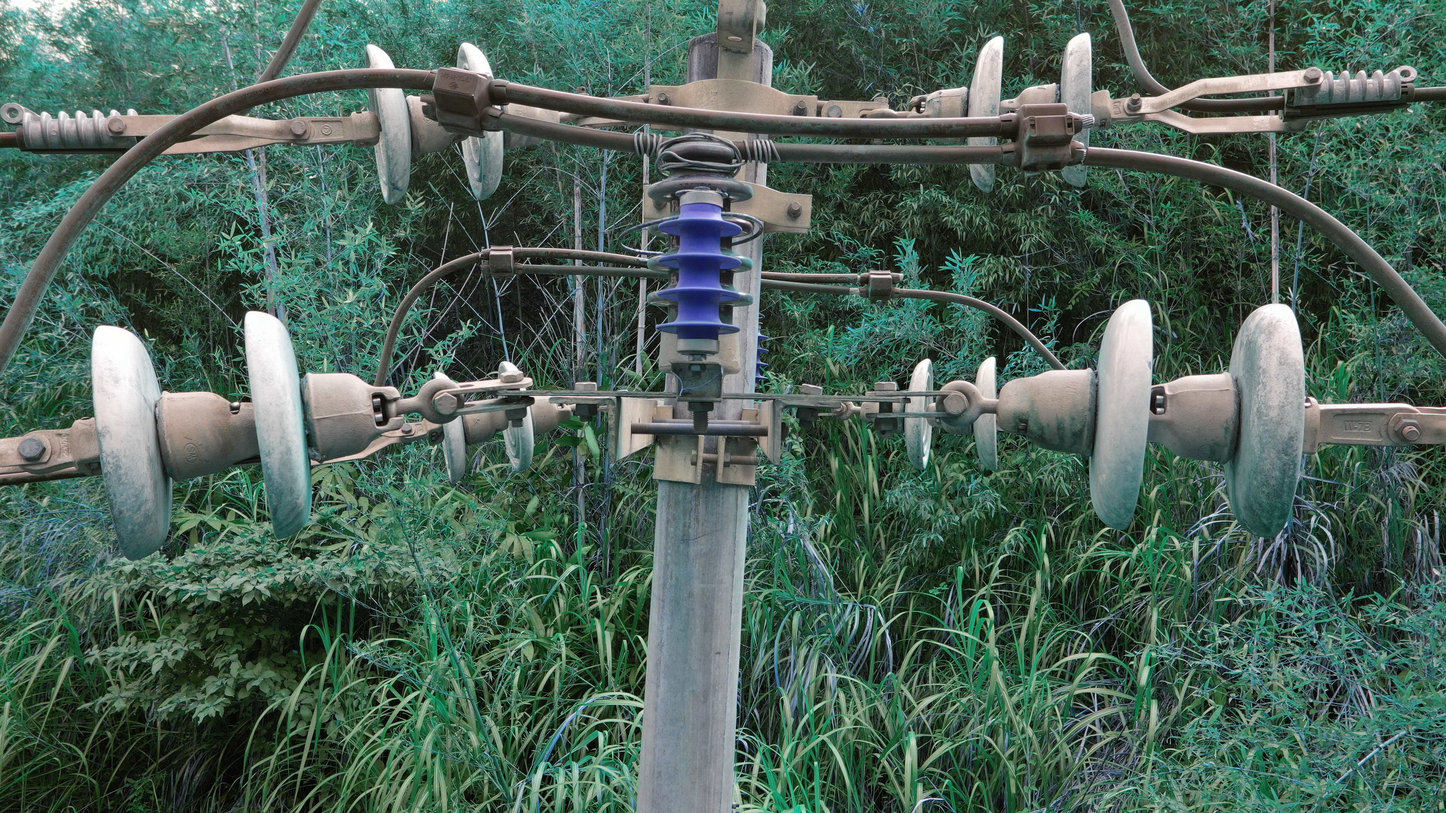severe_soiling_no_discharge_whole: (990, 288, 1312, 542), (90, 304, 406, 557), (354, 32, 581, 204), (904, 35, 1105, 193), (644, 137, 761, 375)
